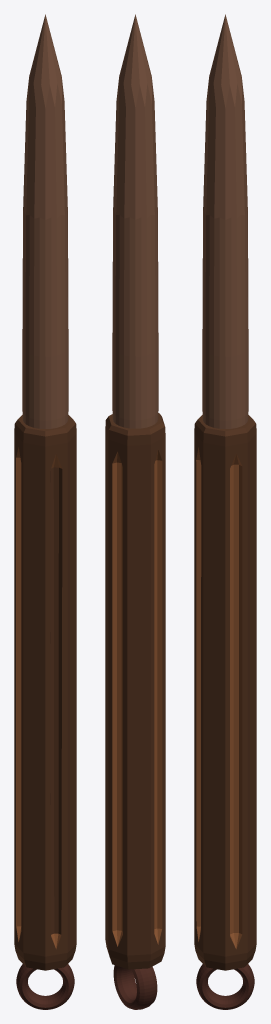
Rendered from Wand 501.glb.
3 views of the same model, side by side, from view 1: azimuth 90°, elevation 25°; view 2: azimuth 210°, elevation 25°; view 3: azimuth 270°, elevation 25° (orthographic).
Visible parts, largest first — view 1: GeneratedWand; view 2: GeneratedWand; view 3: GeneratedWand.
Boxes of the visible parts, left/top/right/bottom form: GeneratedWand: left=14, top=14, right=76, bottom=1009; GeneratedWand: left=105, top=14, right=165, bottom=1009; GeneratedWand: left=194, top=14, right=256, bottom=1009.
Size of the model in its own units: 0.0289 by 0.5074 by 0.0289.
